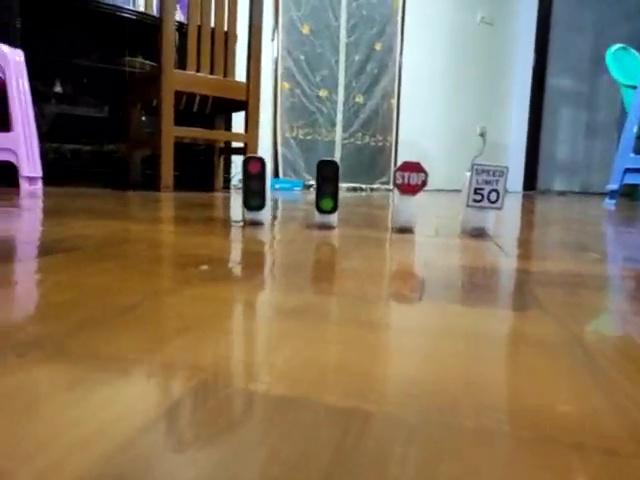Green Traffic Light: (315, 158, 339, 217)
Red Traffic Light: (239, 154, 269, 212)
Speed Limit 50: (466, 163, 512, 207)
Stop Sign: (393, 162, 428, 198)
